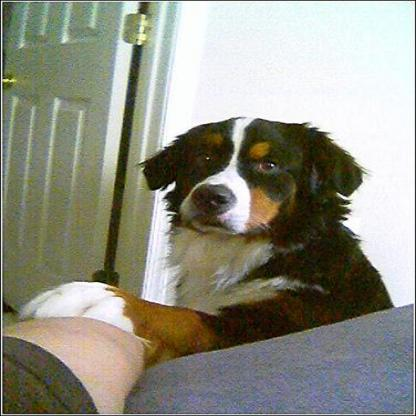Bernese_mountain_dog: (18, 117, 396, 366)
